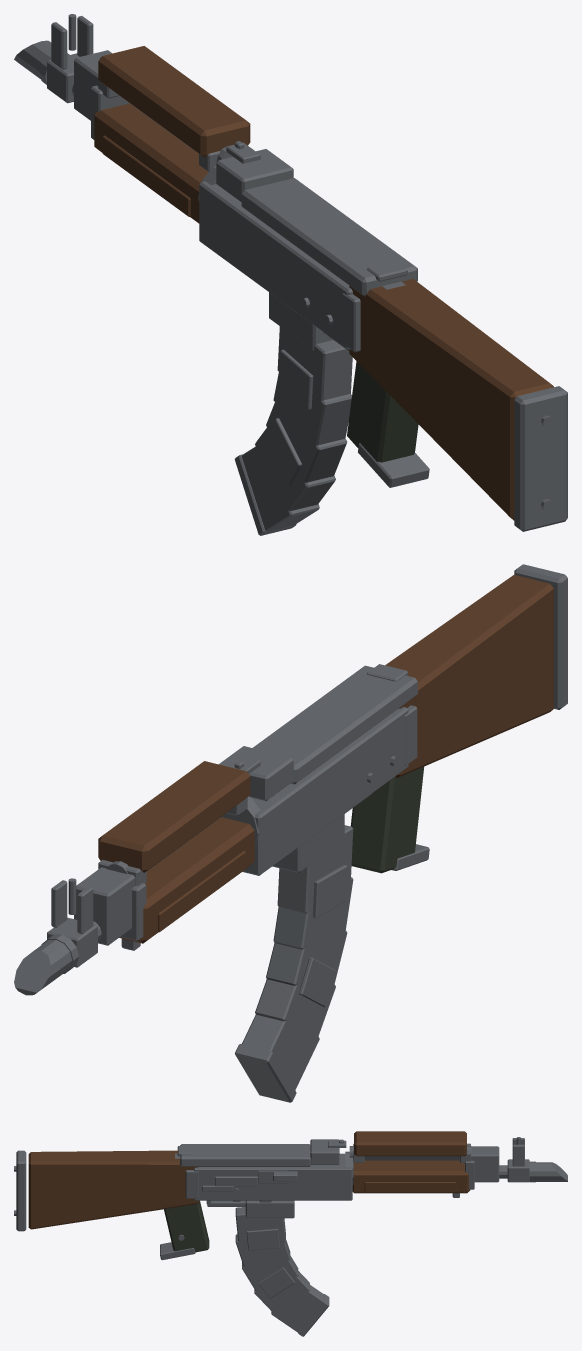
3 renders of one model, top to bottom at view 1: azimuth 30°, elevation 25°; view 2: azimuth 150°, elevation 25°; view 3: azimuth 270°, elevation 25°, orthographic. The views are drawn at different scales.
Parts seen in each view (by area): view 1: ak47; view 2: ak47; view 3: ak47.
Part boxes in pixels (left/top/right/bottom): ak47: left=14, top=14, right=567, bottom=535; ak47: left=14, top=564, right=567, bottom=1102; ak47: left=14, top=1131, right=567, bottom=1336.
Bounding box in the file's own units: 0.0805 × 0.3541 × 0.9065.
